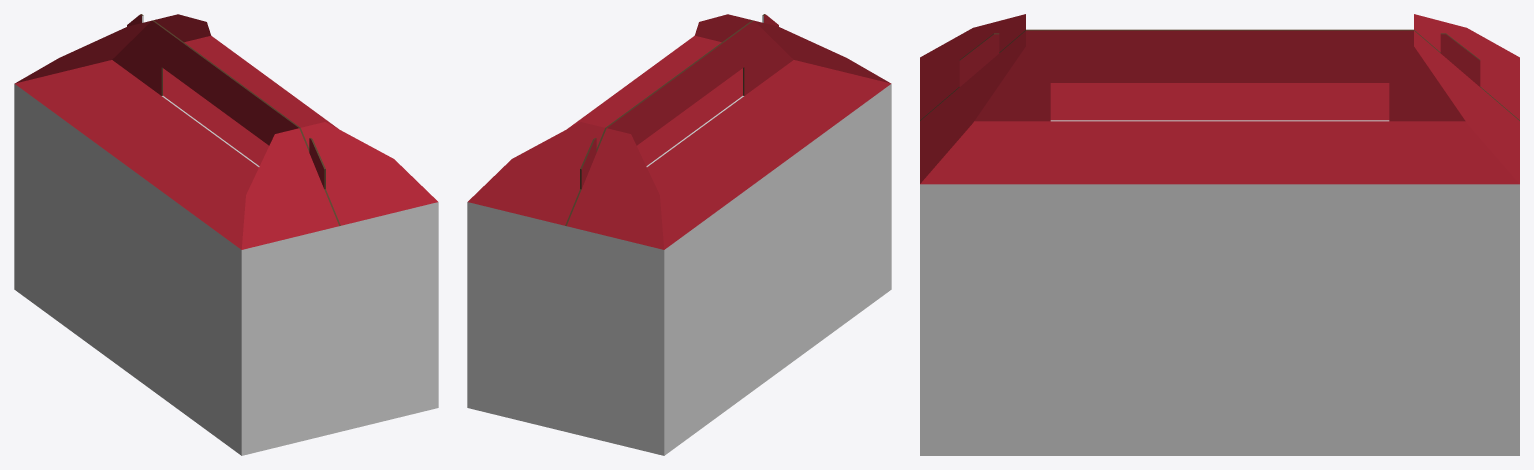
The model's file is timbit_box.fbx.
The picture shows the model from 3 angles, left to right: view 1: azimuth 30°, elevation 25°; view 2: azimuth 150°, elevation 25°; view 3: azimuth 270°, elevation 25°; orthographic projection. The views are drawn at different scales.
Parts seen in each view (by area): view 1: Model; view 2: Model; view 3: Model.
Boxes of the visible parts, x1,y1,x2,y2 form: Model: (14, 14, 438, 455); Model: (467, 14, 891, 455); Model: (920, 14, 1519, 455).
Bounding box in the file's own units: 3.54 × 4.72 × 7.09.
